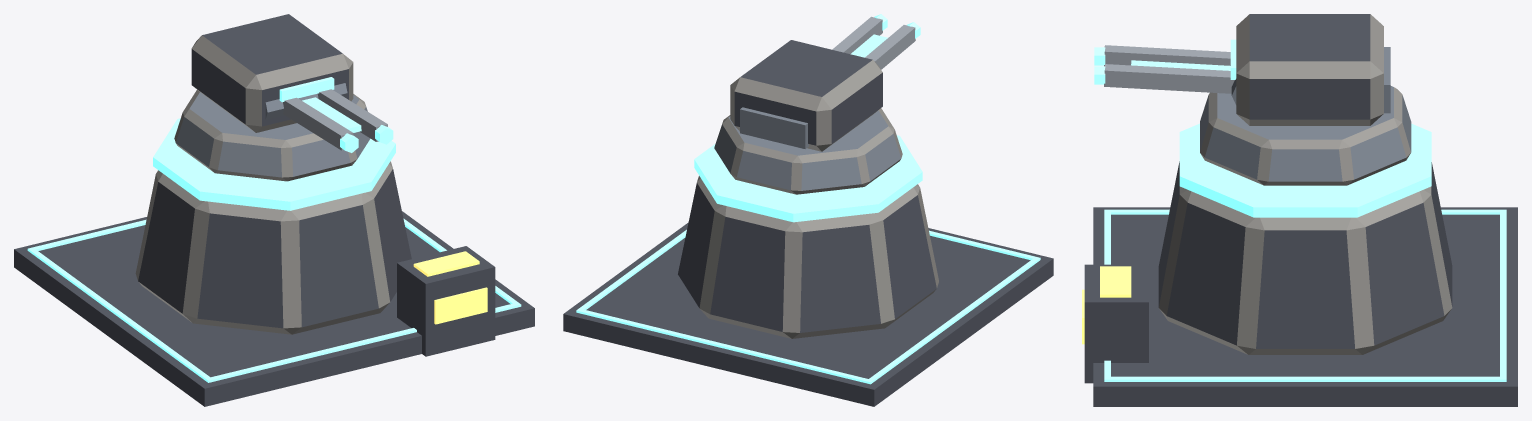
The model's file is torre_defesa_sem_textura.glb.
The picture shows the model from 3 angles, left to right: view 1: azimuth 30°, elevation 25°; view 2: azimuth 150°, elevation 25°; view 3: azimuth 270°, elevation 25°; orthographic projection. The views are drawn at different scales.
Visible parts, largest first — view 1: torre_defesa_base, torre_defesa_giro, torre_defesa_canhao; view 2: torre_defesa_base, torre_defesa_giro, torre_defesa_canhao; view 3: torre_defesa_base, torre_defesa_giro, torre_defesa_canhao.
Part boxes in pixels (x1,y1,x2,y2): torre_defesa_base: (14,118,534,406); torre_defesa_giro: (174,14,370,181); torre_defesa_canhao: (265,83,393,152); torre_defesa_base: (563,135,1053,406); torre_defesa_giro: (714,40,902,194); torre_defesa_canhao: (832,14,920,69); torre_defesa_base: (1082,123,1517,406); torre_defesa_giro: (1200,14,1411,185); torre_defesa_canhao: (1094,45,1236,104).
Size of the model in its own units: 1.9 by 1.38 by 1.95.
